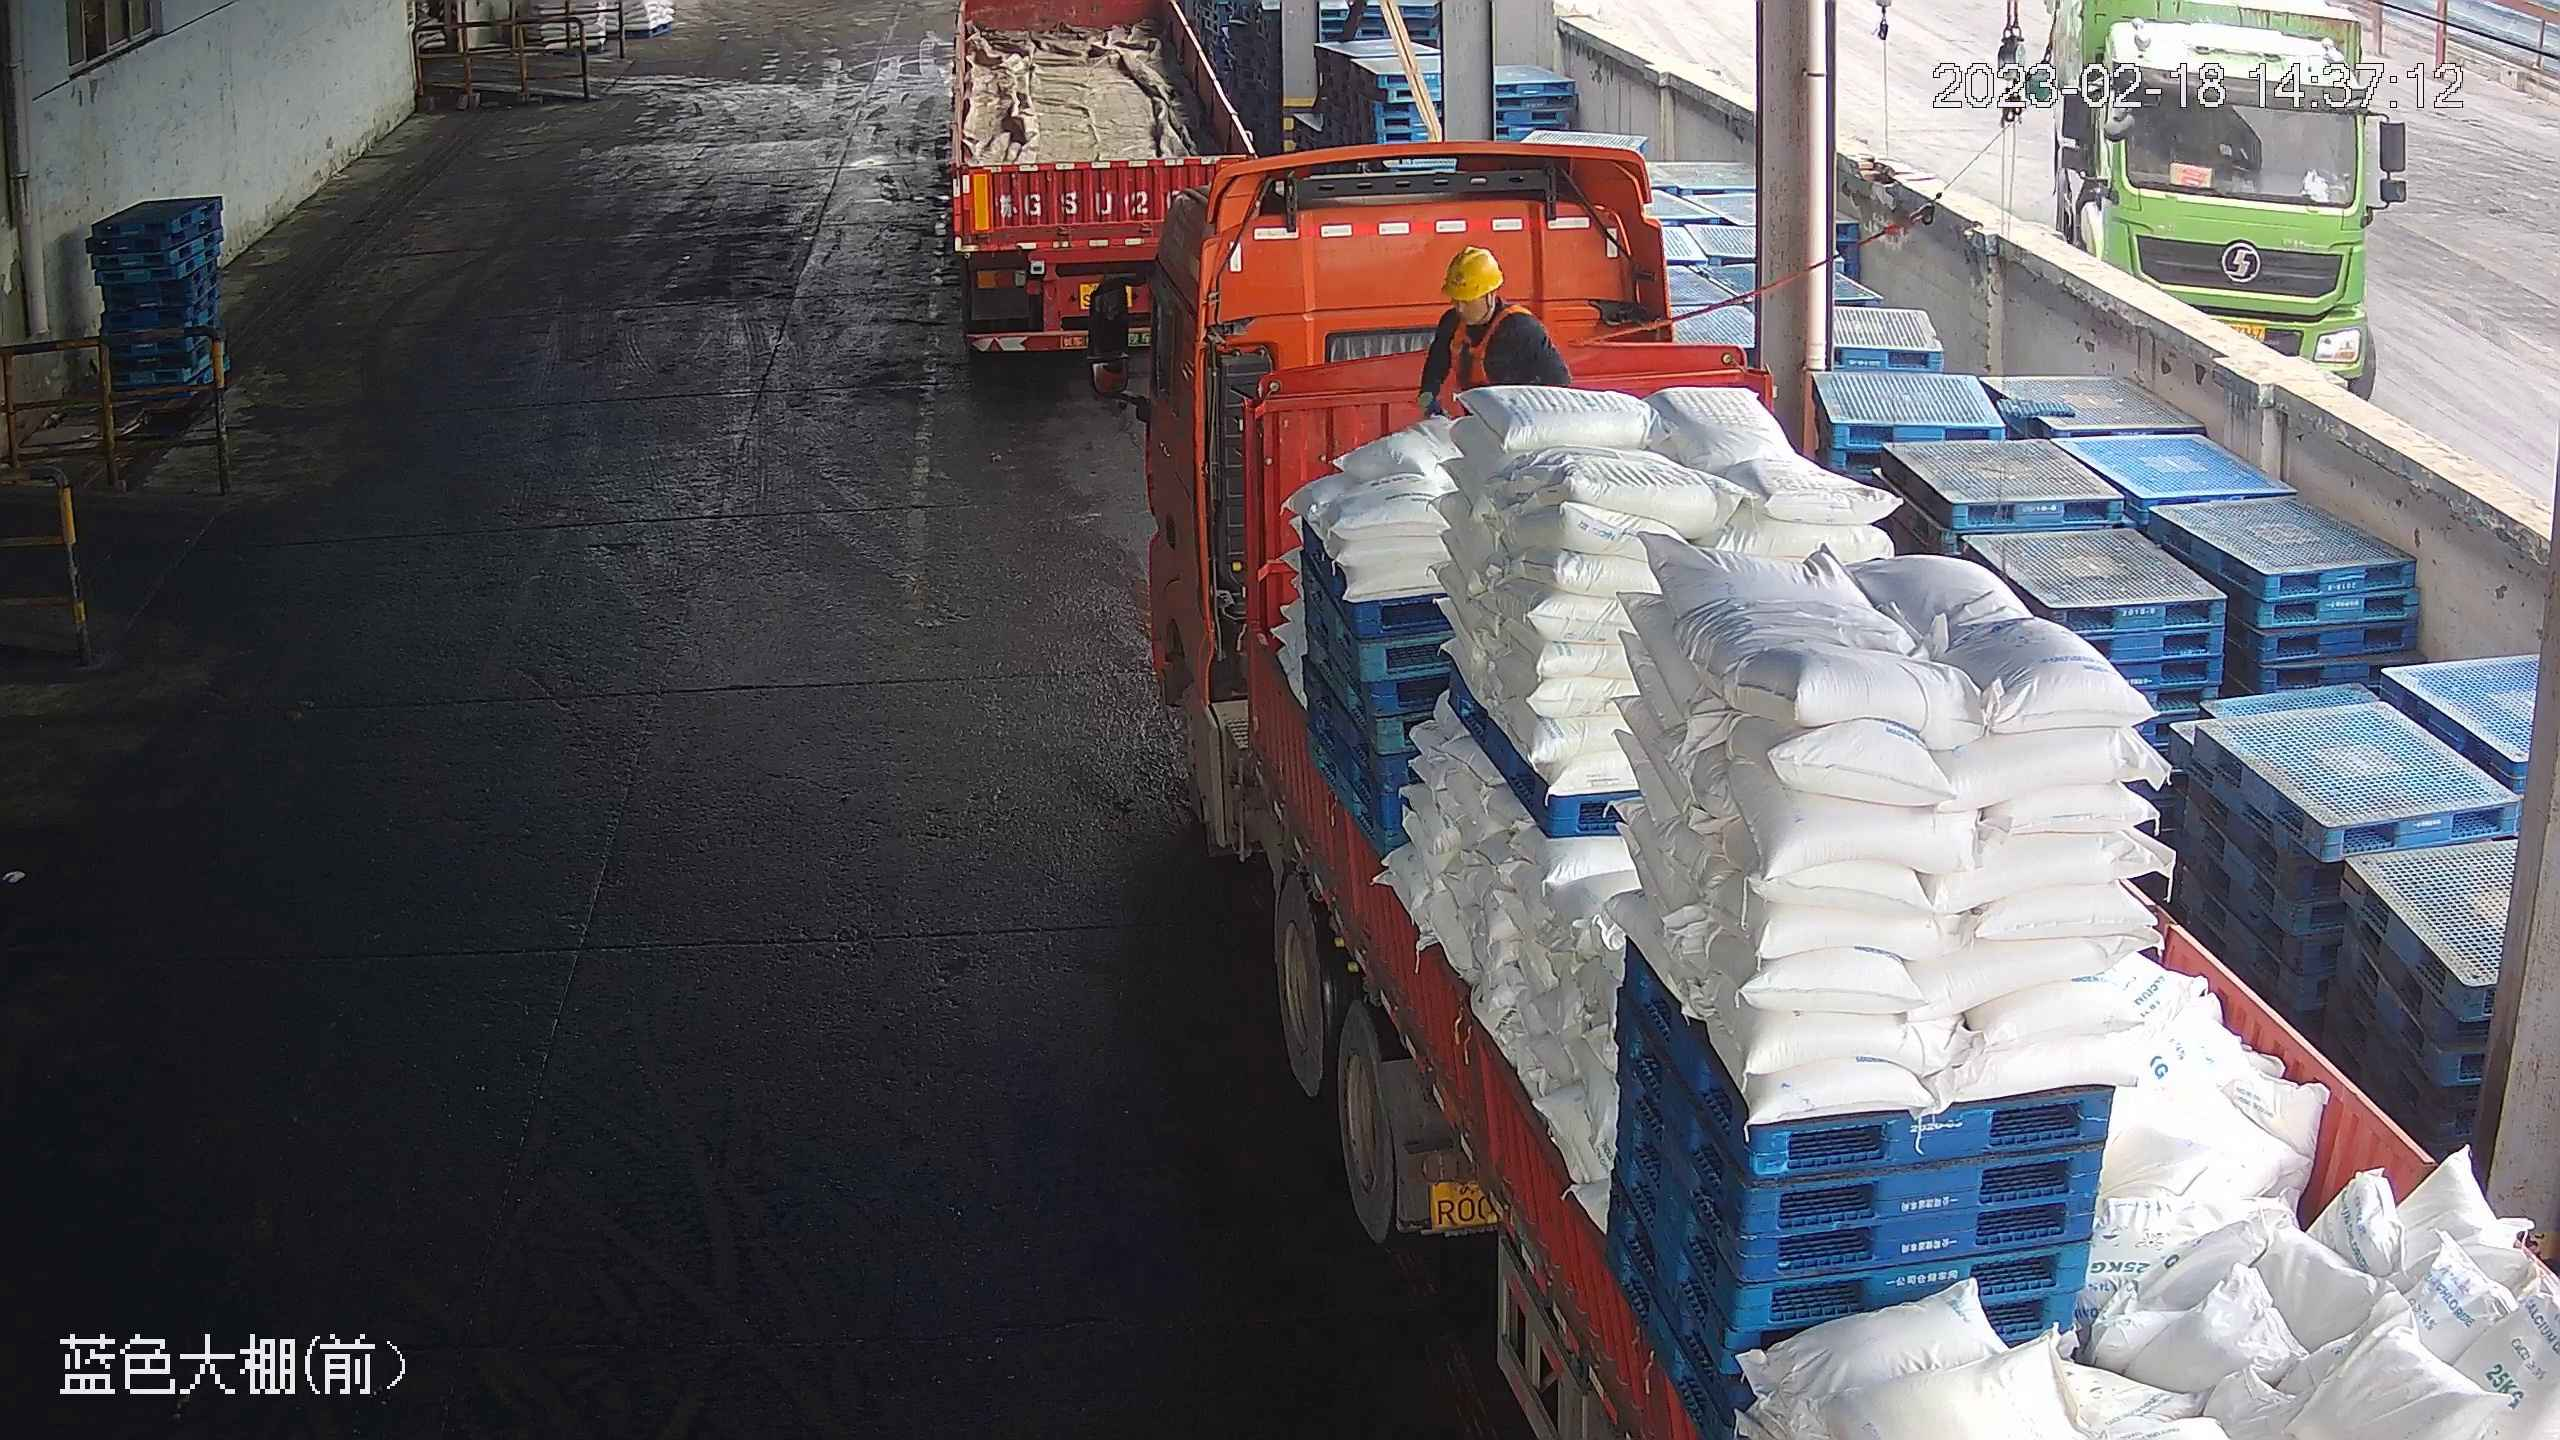belt: (1447, 307, 1536, 394)
head: (1412, 244, 1541, 358)
helmet: (1440, 242, 1505, 303)
truck: (1093, 130, 2560, 1440), (2042, 1, 2409, 409), (925, 4, 1260, 374)
